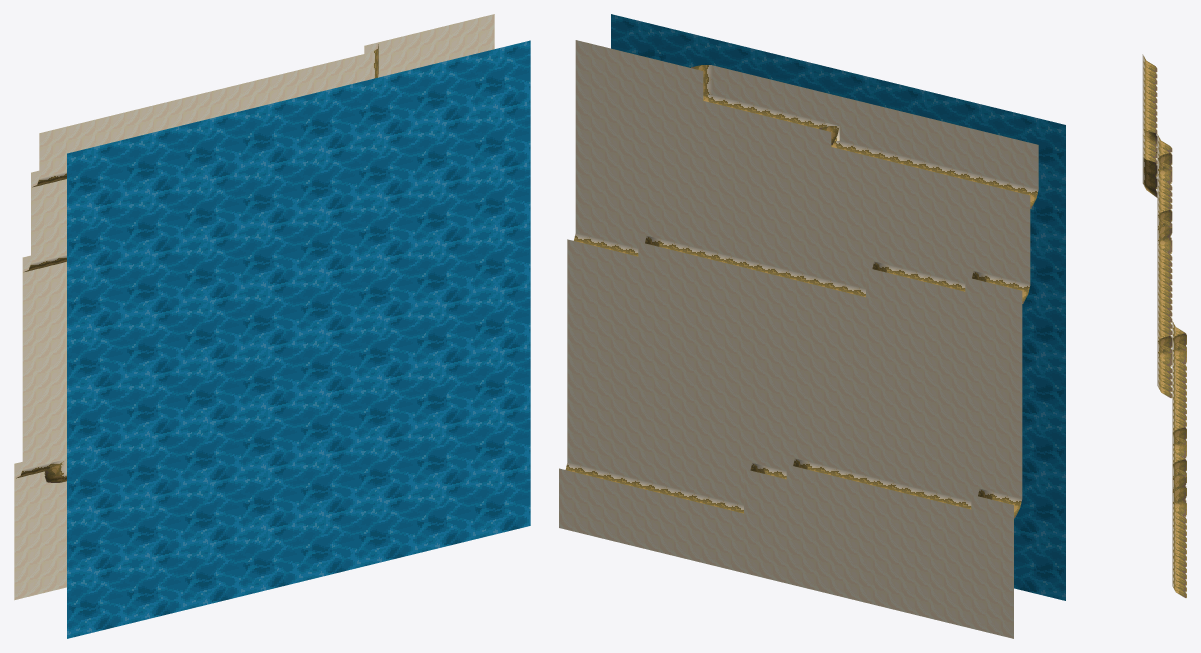
Rendered from HGRT-OW-v1_34_10.obj.
3 renders of one model, left to right at view 1: azimuth 30°, elevation 25°; view 2: azimuth 150°, elevation 25°; view 3: azimuth 270°, elevation 25°, orthographic. The views are drawn at different scales.
Visible parts, largest first — view 1: map; view 2: map; view 3: map.
Part boxes in pixels (x1,y1,x2,y2): map: [14, 14, 530, 638]; map: [559, 14, 1065, 638]; map: [1142, 54, 1186, 597].
Bounding box in the file's own units: 32 × 32 × 6.31.
Materials: 4 (4 with a texture image).
